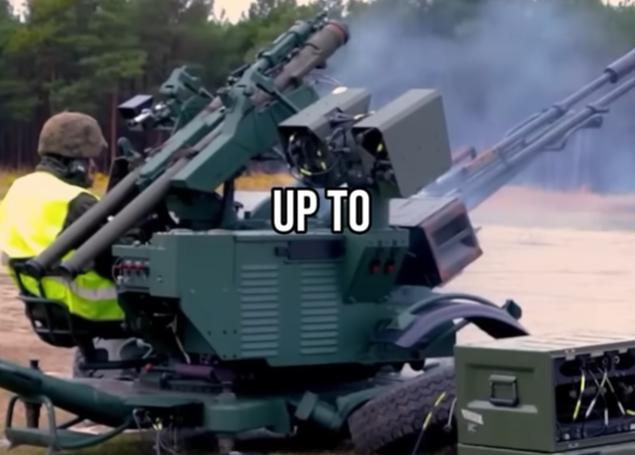MIL_SPG: (0, 17, 634, 453)
